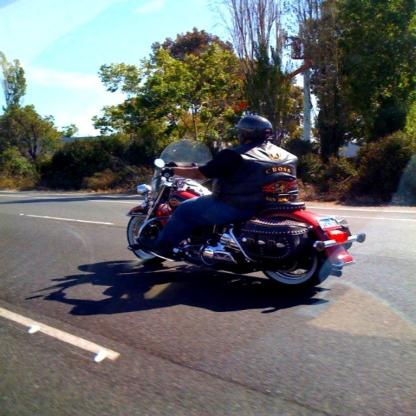Helmet: (230, 113, 281, 148)
